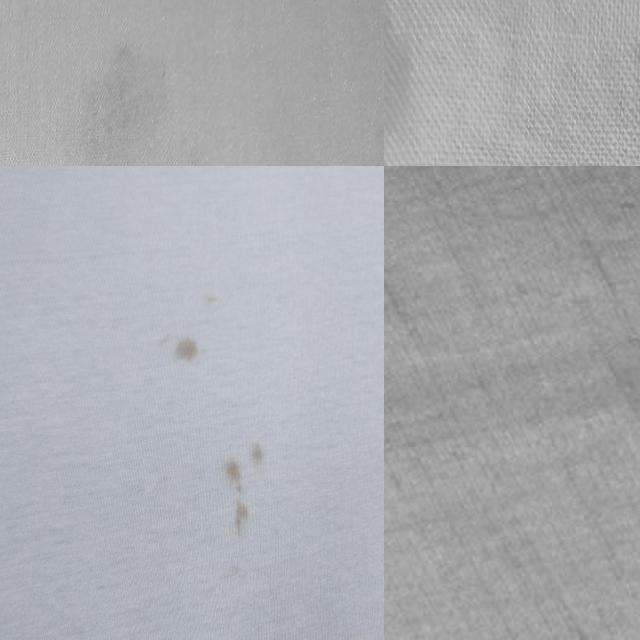Hole: (129, 226, 286, 390), (187, 414, 318, 572)
